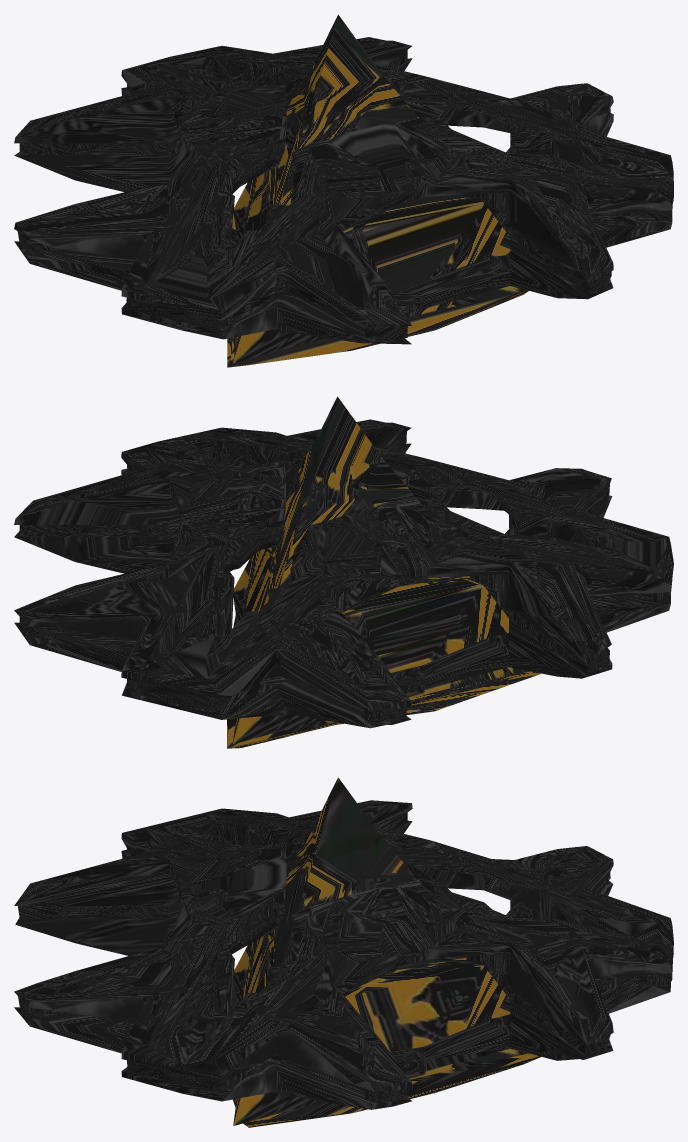
The picture shows the model from 3 angles, top to bottom: view 1: azimuth 30°, elevation 25°; view 2: azimuth 150°, elevation 25°; view 3: azimuth 270°, elevation 25°; orthographic projection.
Visible parts, largest first — view 1: defaultMaterial (×3); view 2: defaultMaterial (×3); view 3: defaultMaterial (×3).
Part boxes in pixels (left/top/right/bottom): defaultMaterial (×3): left=14, top=14, right=673, bottom=367; defaultMaterial (×3): left=14, top=396, right=673, bottom=748; defaultMaterial (×3): left=14, top=777, right=673, bottom=1127.
Bounding box in the file's own units: 65506 × 30537 × 63975.
3 materials, 3 textured.
